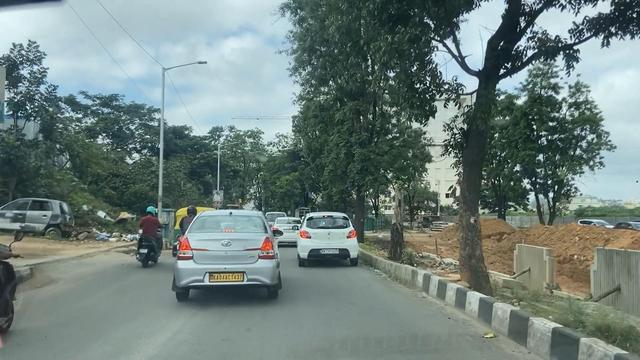LMV: (183, 223, 280, 296), (305, 217, 352, 261), (140, 207, 160, 265)
